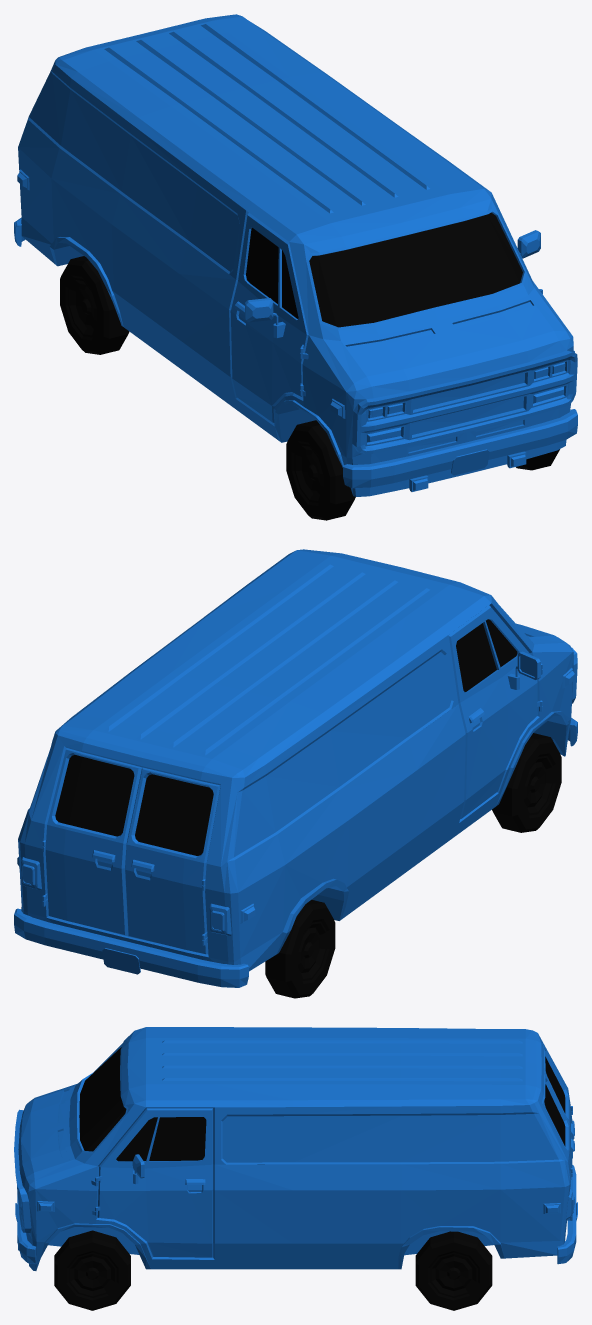
Rendered from HALF_minibus_2.fbx.
3 renders of one model, top to bottom at view 1: azimuth 30°, elevation 25°; view 2: azimuth 150°, elevation 25°; view 3: azimuth 270°, elevation 25°, orthographic. The views are drawn at different scales.
Parts seen in each view (by area): view 1: Cube_7, Cylinder_3, Cylinder_6; view 2: Cube_7, Symmetry_14, Cube_5, Cylinder_6, Cylinder_3; view 3: Cube_7, Cylinder_6, Cylinder_2, Cube_5, Symmetry_14.
Part boxes in pixels (x1,y1,x2,y2): Cube_7: (14,14,577,496); Cylinder_3: (286,420,355,520); Cylinder_6: (60,256,129,354); Cube_7: (14,549,577,987); Symmetry_14: (125,767,220,954); Cube_5: (45,748,141,936); Cylinder_6: (265,899,335,998); Cylinder_3: (492,733,561,832); Cube_7: (14,1027,577,1270); Cylinder_6: (415,1231,492,1310); Cylinder_2: (54,1230,130,1310); Cube_5: (542,1074,574,1222); Symmetry_14: (542,1044,574,1138).
Size of the model in its own units: 236 by 199 by 490.
